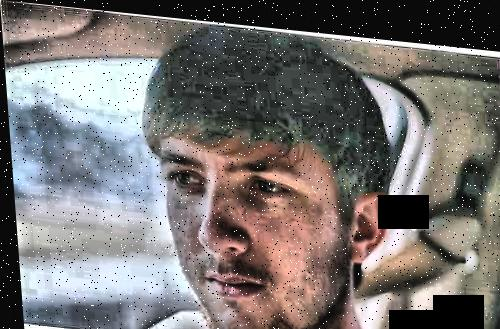seatbelt: (345, 183, 454, 298)
